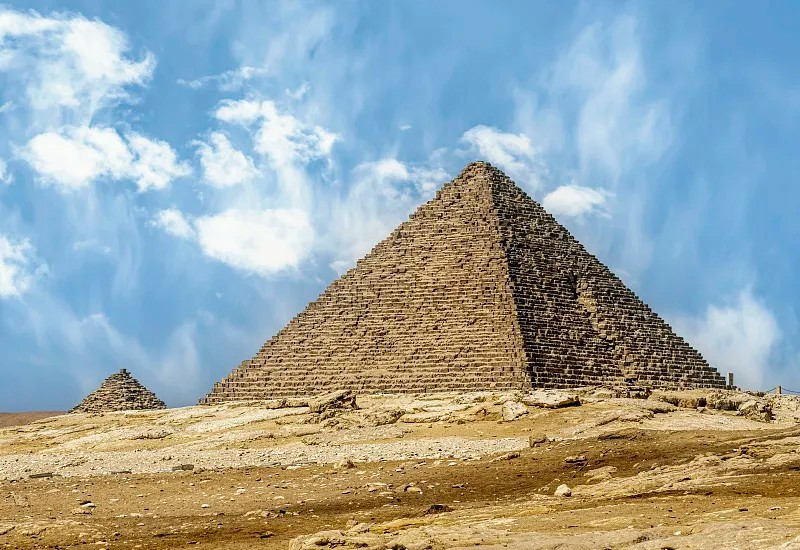Pyramid: (198, 161, 730, 407), (68, 368, 168, 411)
